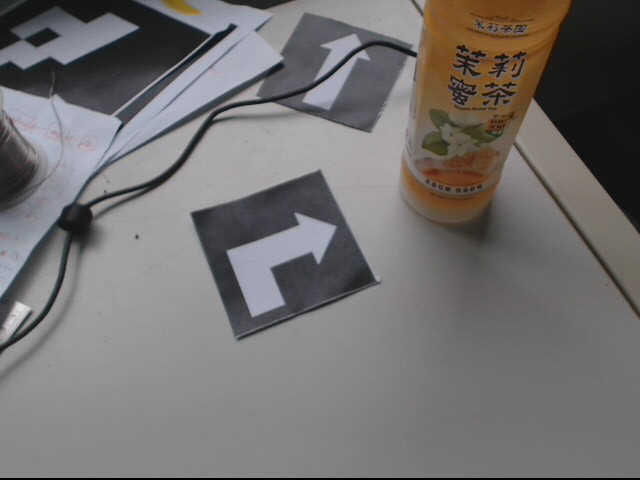right: (190, 169, 378, 339)
